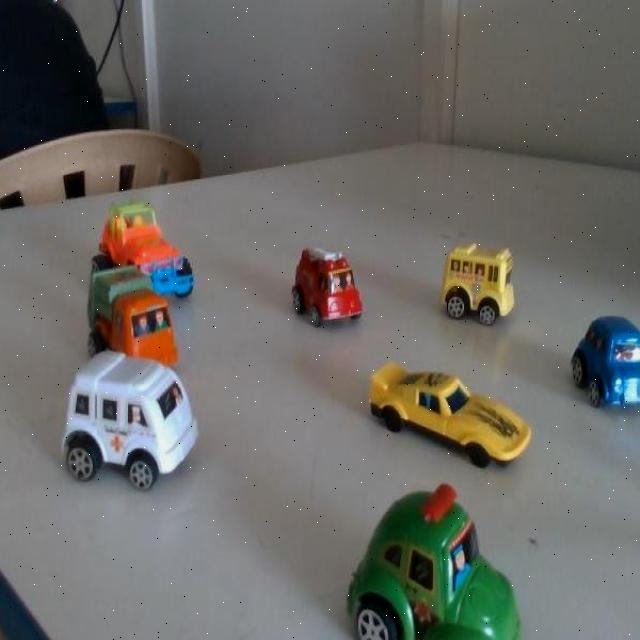car: (69, 327, 222, 515), (366, 493, 529, 640), (379, 351, 522, 481), (432, 237, 526, 346), (116, 194, 203, 304), (286, 233, 364, 346), (104, 259, 173, 378), (586, 316, 640, 415)
